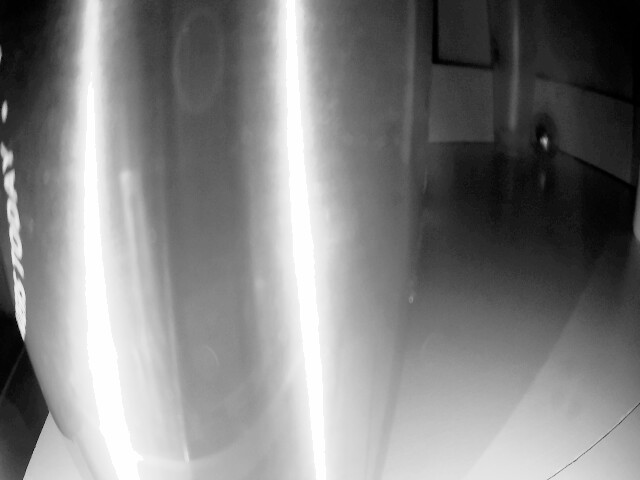black: (536, 114, 561, 162)
